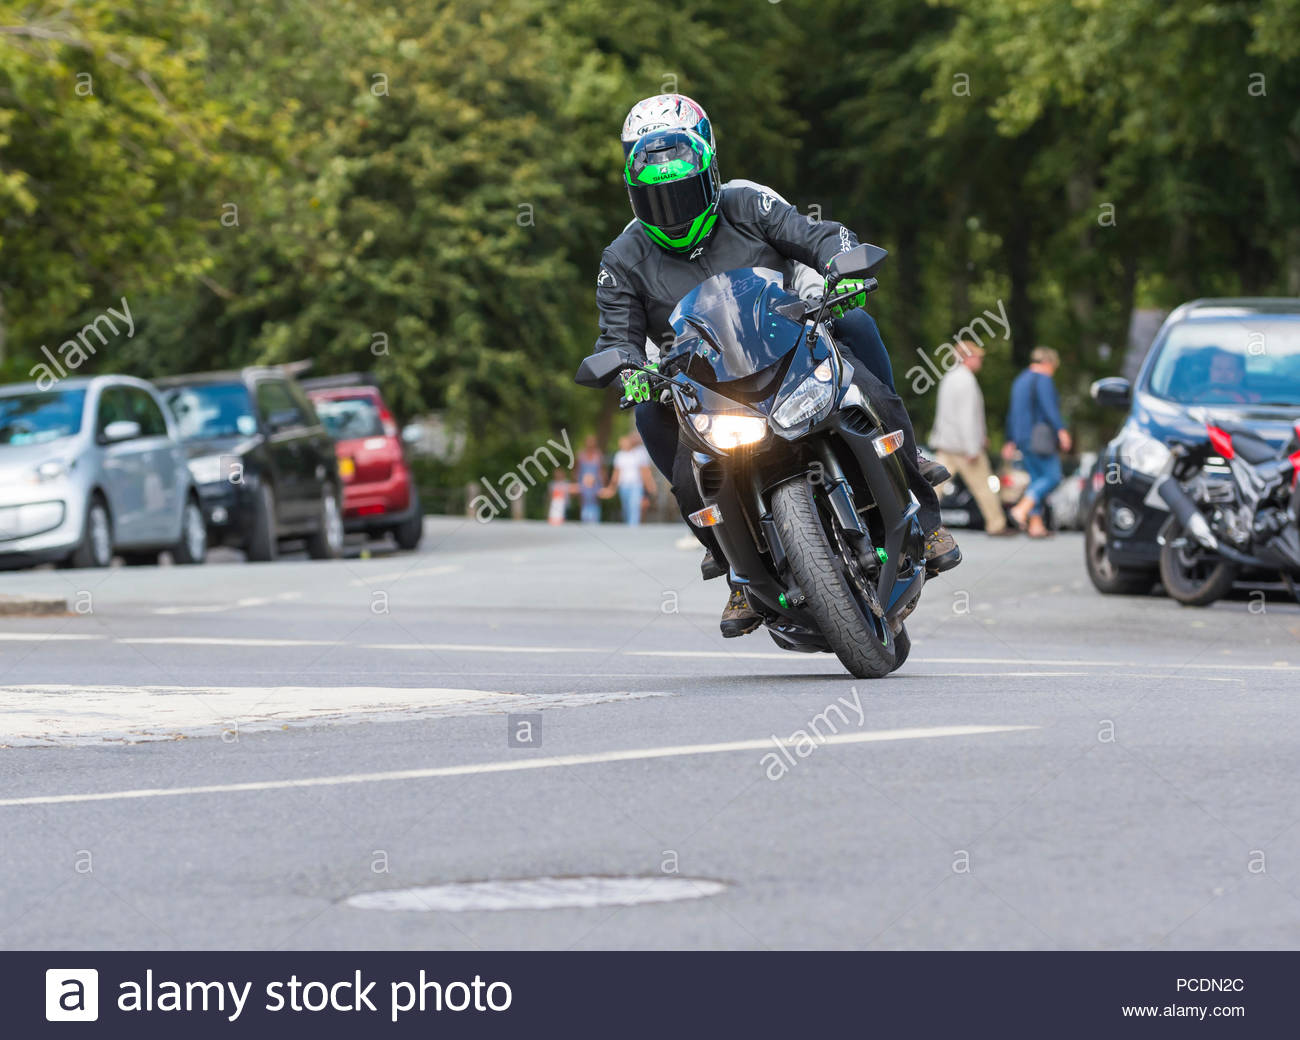helmet: (600, 126, 743, 256)
